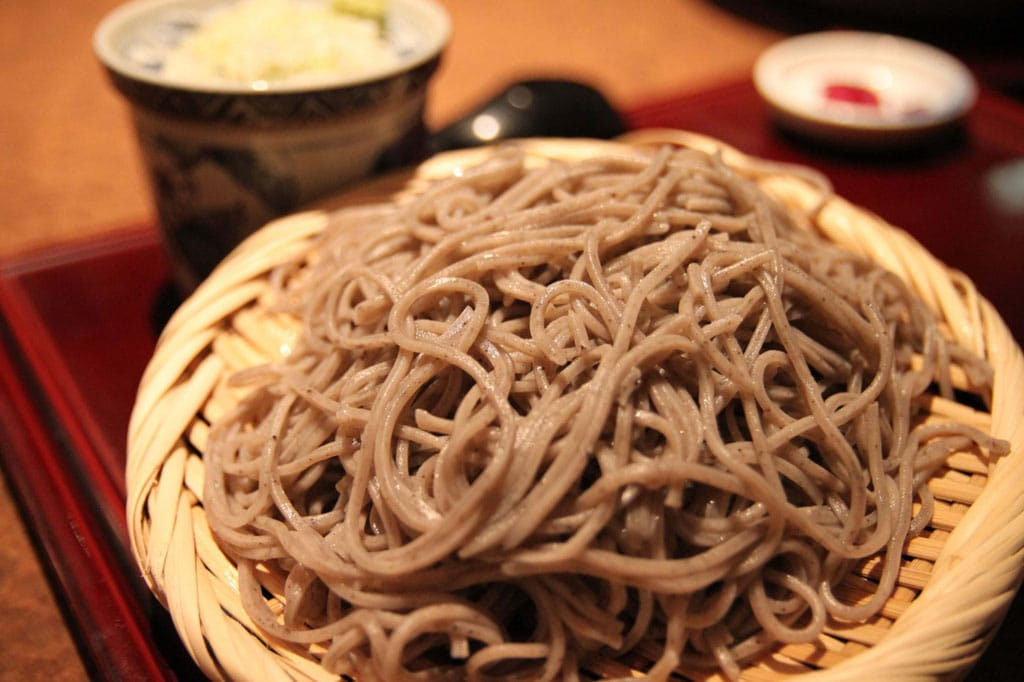Soba: (217, 161, 997, 664)
